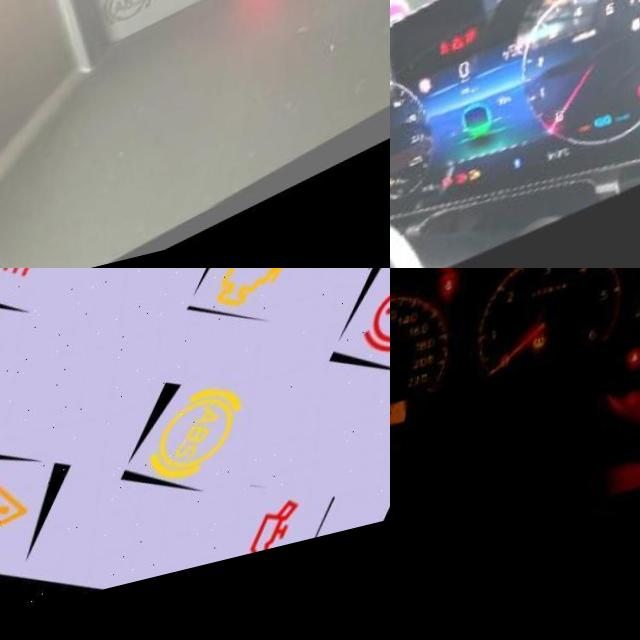Engine cooling system: (628, 340, 640, 356)
Low fuel level: (390, 185, 398, 195)
